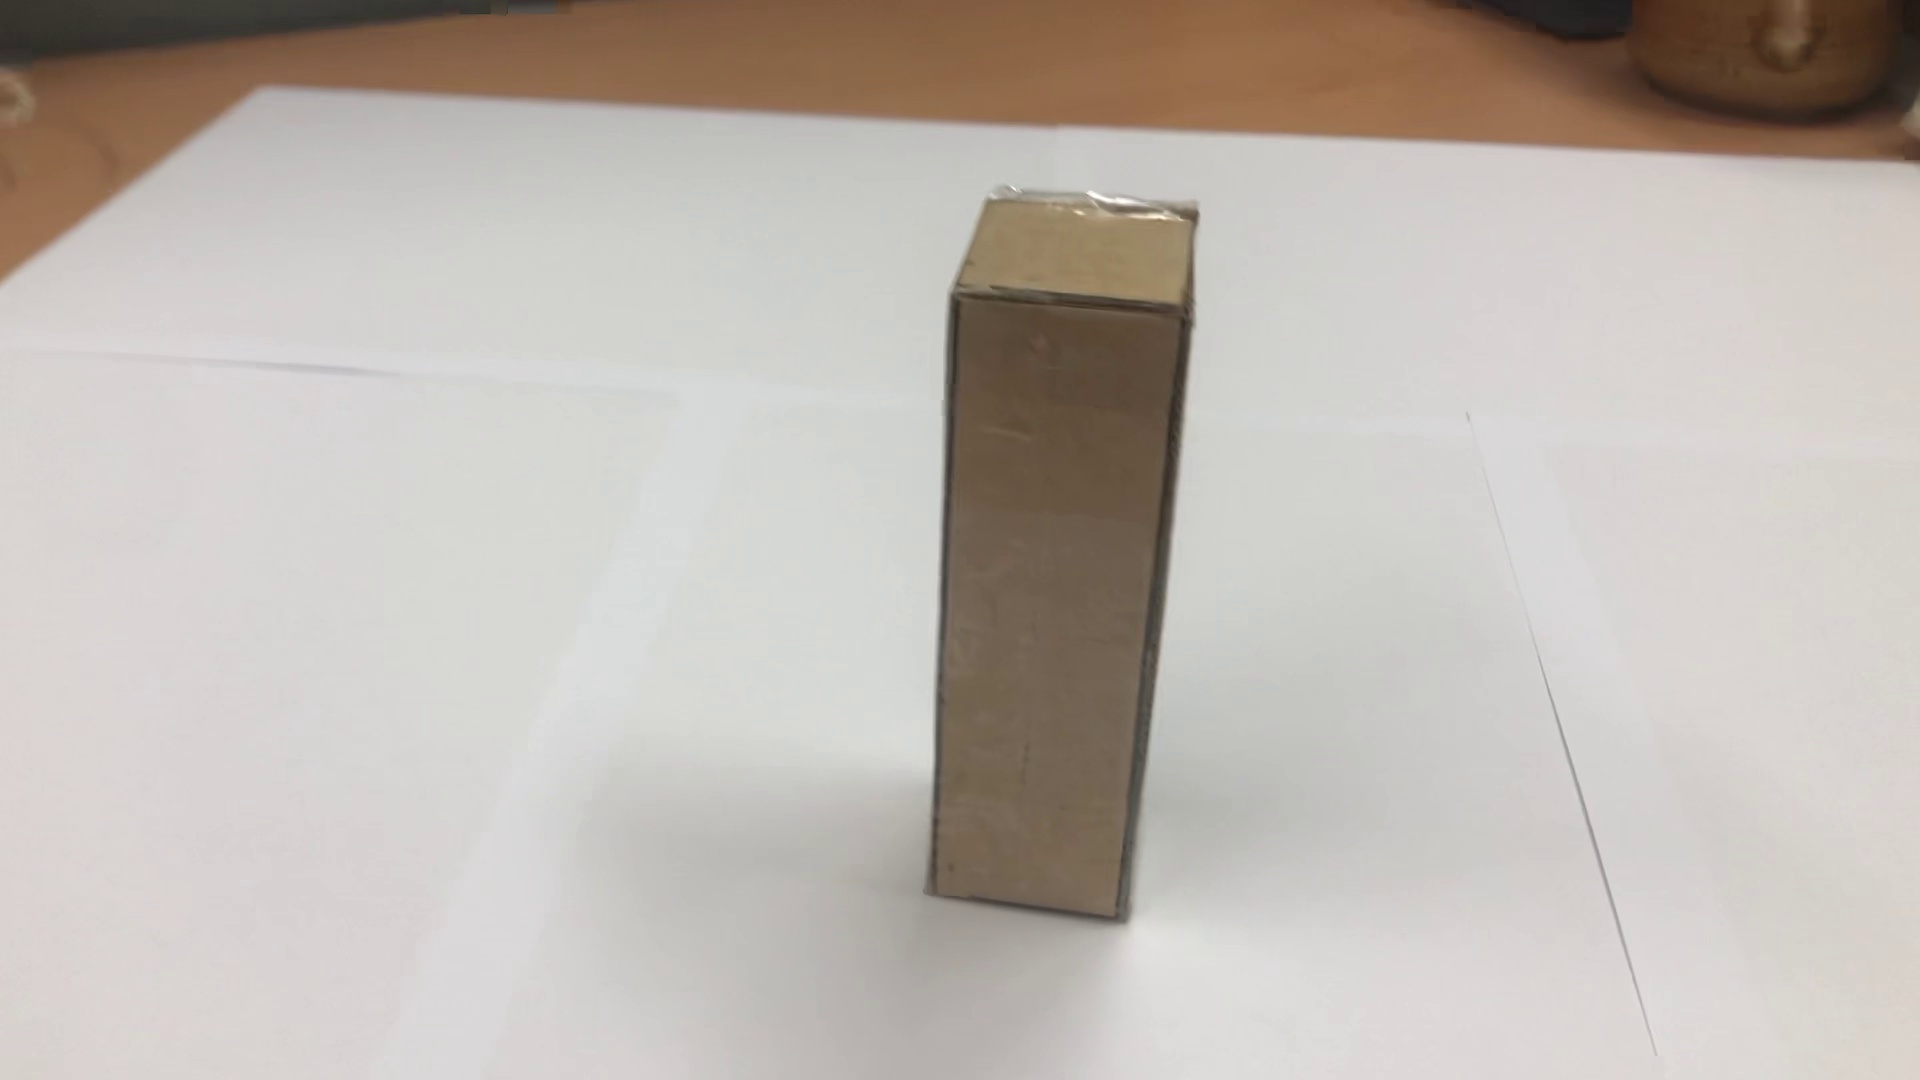box: (880, 173, 1218, 952)
